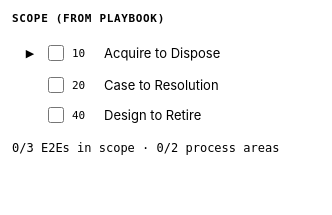
Test case: ScopeTree › expands to show process areas on click
Click the button with test id "scope-expand-10" at (30, 53), box left=20, top=43, right=40, bottom=63
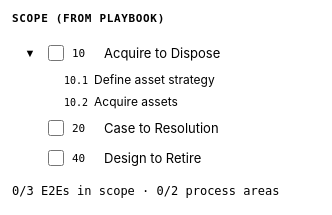
Now the element with test id "scope-children-10" is shown, box left=64, top=72, right=215, bottom=109
Now the element with test id "scope-area-10.1" is shown, box left=64, top=72, right=215, bottom=87
Now the element with test id "scope-area-10.2" is shown, box left=64, top=94, right=178, bottom=109
